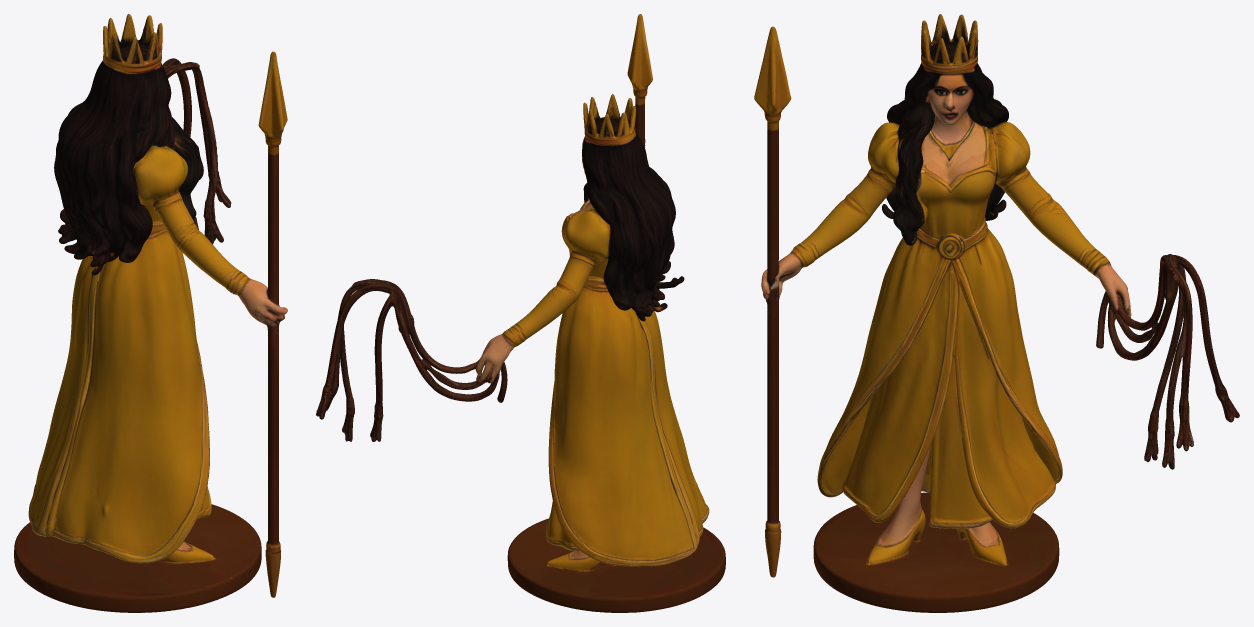
3 views of the same model, side by side, from view 1: azimuth 30°, elevation 25°; view 2: azimuth 150°, elevation 25°; view 3: azimuth 270°, elevation 25° (orthographic). The views are drawn at different scales.
Visible parts, largest first — view 1: tripo_node_bdcc5f99-56ef-429c-bb4d-3267816556ed; view 2: tripo_node_bdcc5f99-56ef-429c-bb4d-3267816556ed; view 3: tripo_node_bdcc5f99-56ef-429c-bb4d-3267816556ed.
Part boxes in pixels (x1,y1,x2,y2): tripo_node_bdcc5f99-56ef-429c-bb4d-3267816556ed: [14, 14, 287, 612]; tripo_node_bdcc5f99-56ef-429c-bb4d-3267816556ed: [316, 14, 725, 612]; tripo_node_bdcc5f99-56ef-429c-bb4d-3267816556ed: [754, 14, 1239, 612].
Size of the model in its own units: 0.609 by 1 by 0.7832.
Materials: 1 (1 with a texture image).
